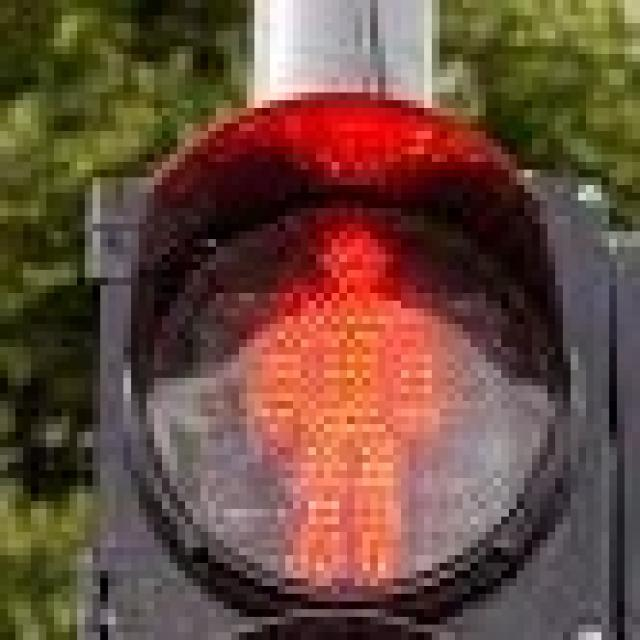red-crossing: (208, 193, 478, 586)
